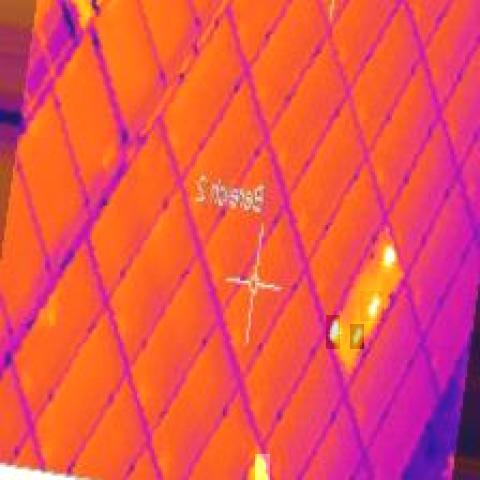fault: (360, 292, 384, 322), (377, 240, 399, 270), (326, 315, 340, 349), (255, 454, 270, 480), (350, 324, 364, 349)
